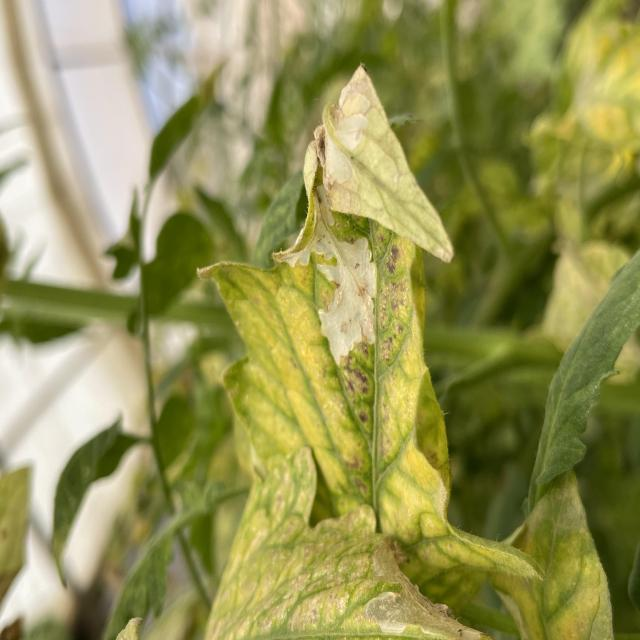Tuta absoluta: (257, 178, 412, 365)
